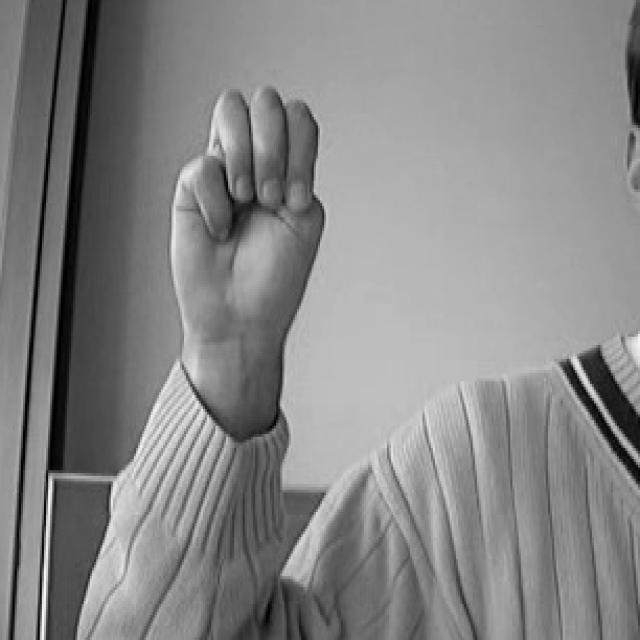M: (160, 69, 338, 357)
